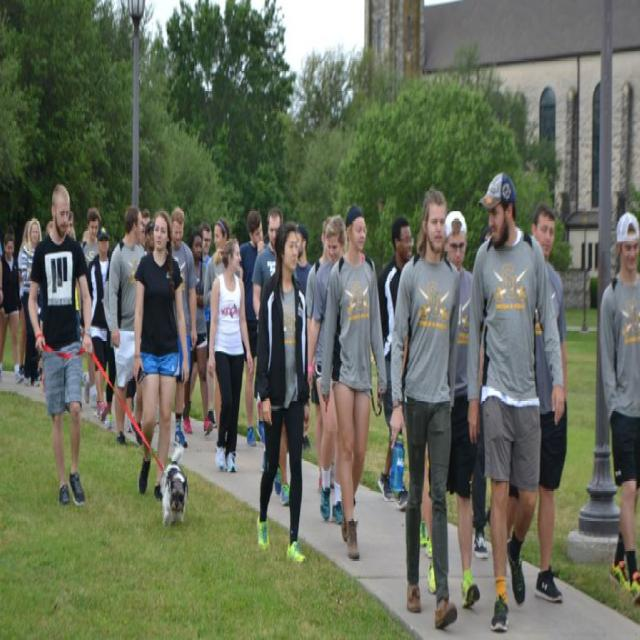body: (463, 167, 566, 638), (387, 175, 462, 632), (318, 202, 390, 562), (504, 205, 568, 604), (426, 209, 482, 610), (26, 180, 94, 507), (252, 218, 310, 568), (130, 207, 190, 502), (597, 210, 639, 610), (306, 214, 348, 526), (302, 209, 344, 502), (376, 216, 416, 511), (206, 234, 254, 476), (202, 217, 244, 443), (108, 204, 146, 450), (473, 221, 498, 560), (239, 207, 267, 450), (182, 230, 214, 437), (182, 229, 213, 438), (86, 224, 113, 423), (294, 221, 314, 453), (80, 206, 102, 411), (0, 224, 26, 390), (20, 217, 43, 389), (250, 206, 284, 322), (17, 216, 39, 384), (130, 207, 160, 266), (44, 214, 54, 237), (66, 209, 74, 237)
